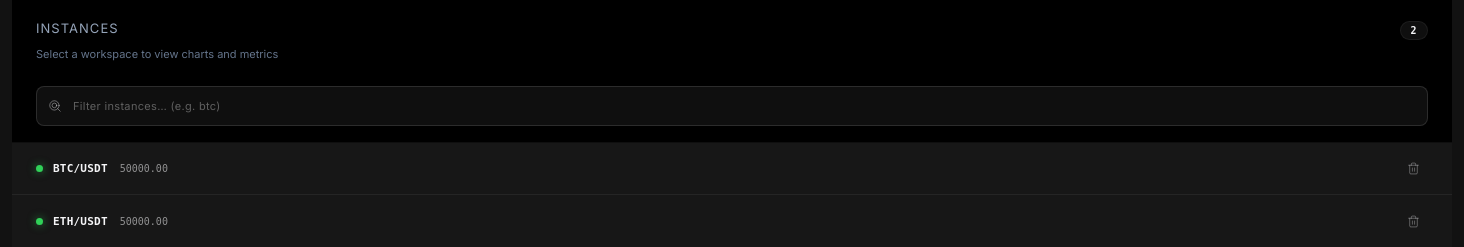
Test: InstancePicker — live search filter › matches on UPPERCASE query against the stored symbol (symbols are always caps)
Expected: the text "BTC/USDT" is shown, [53, 162, 108, 175]
Type "BTC" into the field named "Filter instances by name".
click(732, 106); type("BTC")  # box [36, 86, 1428, 126]
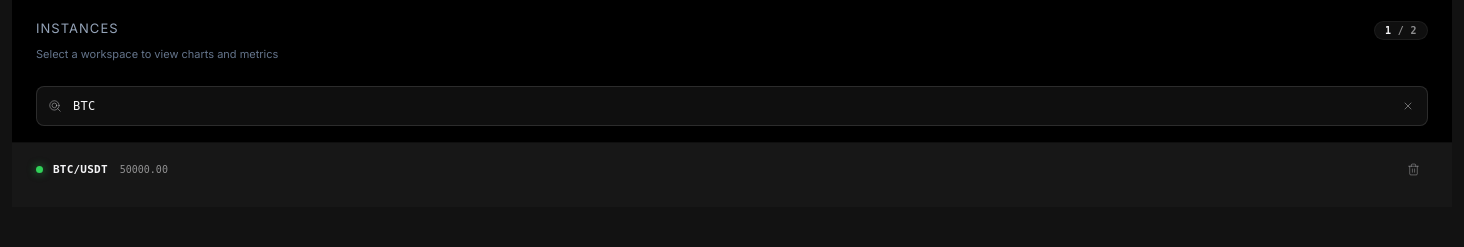
Expected: the text "BTC/USDT" is shown, [53, 162, 108, 176]
Result: the button "ETH/USDT" is gone
